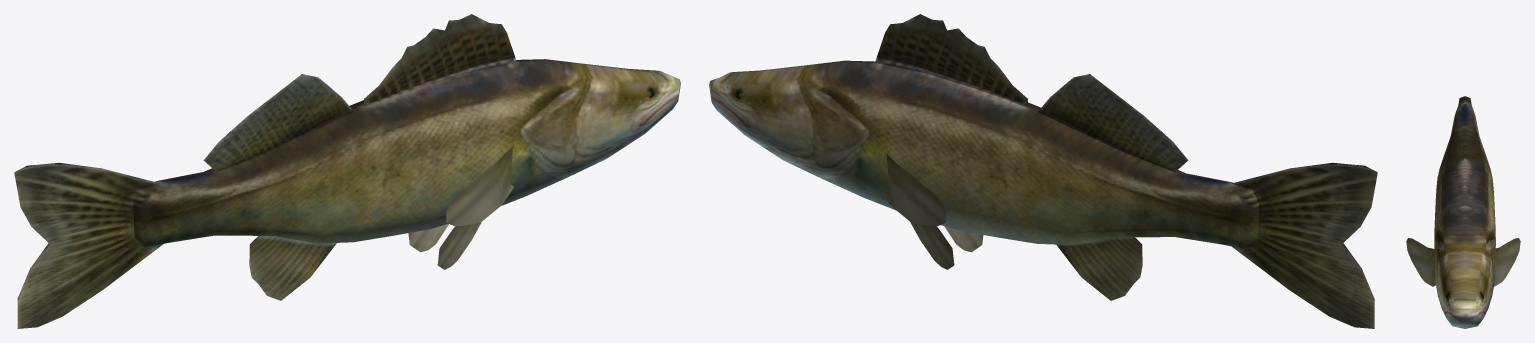
The model's file is Zander.glb.
3 views of the same model, side by side, from view 1: azimuth 30°, elevation 25°; view 2: azimuth 150°, elevation 25°; view 3: azimuth 270°, elevation 25° (orthographic). The views are drawn at different scales.
Visible parts, largest first — view 1: Zander; view 2: Zander; view 3: Zander.
Boxes of the visible parts, left/top/right/bottom form: Zander: left=14, top=14, right=680, bottom=328; Zander: left=709, top=14, right=1377, bottom=328; Zander: left=1406, top=96, right=1520, bottom=328.
Bounding box in the file's own units: 2 × 0.6883 × 0.3916.
Materials: 1 (1 with a texture image).
